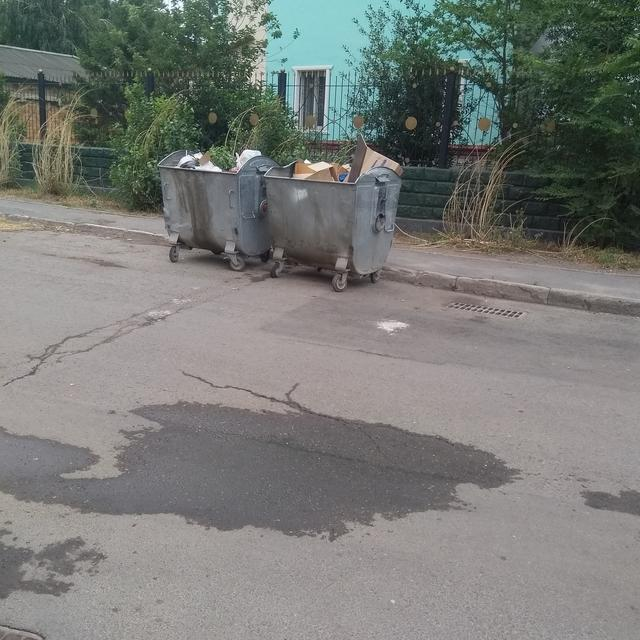Trash_Can_Full: (264, 136, 404, 274), (158, 146, 279, 256)
